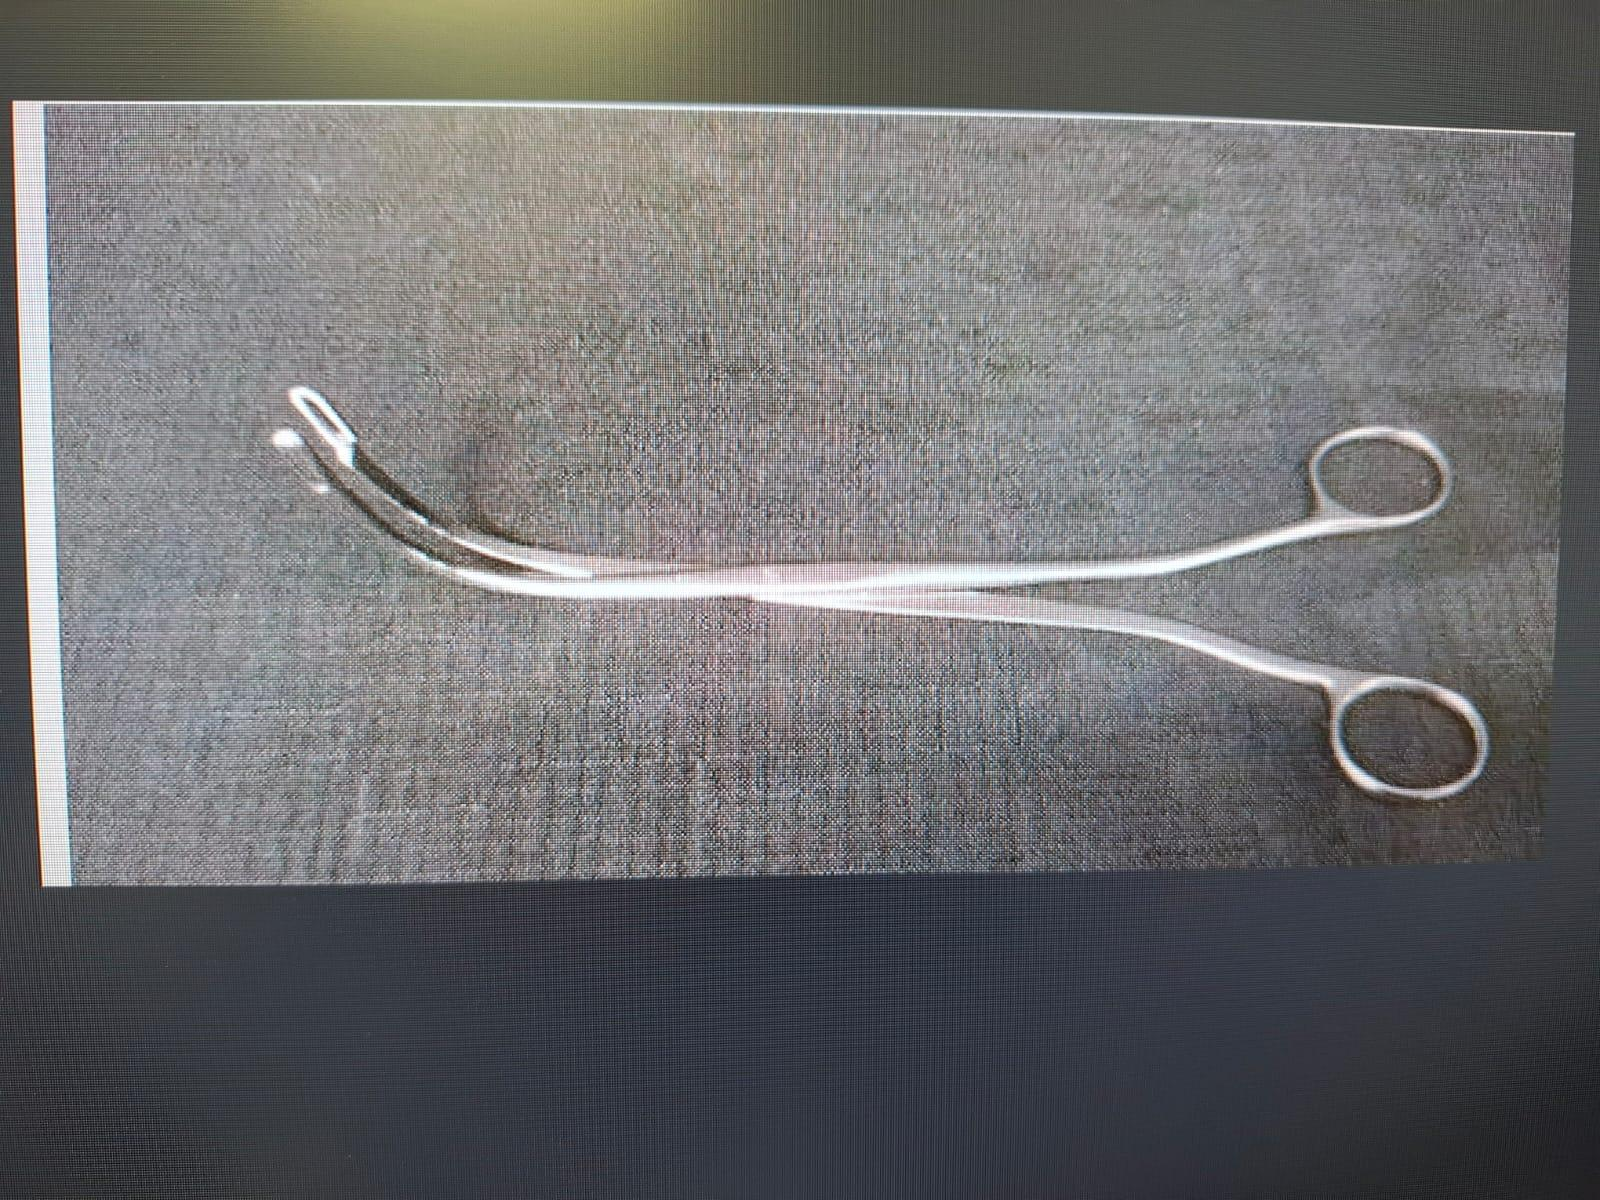Randall Forceps: (266, 340, 1506, 822)
